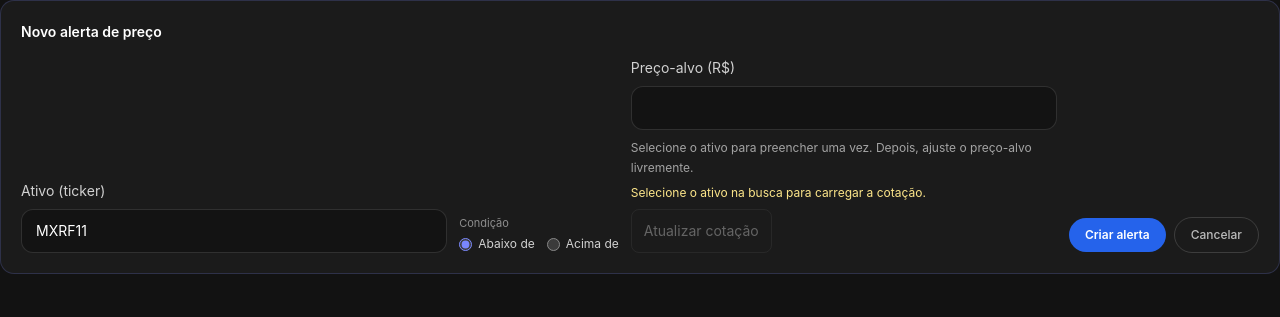
Test case: explica a falha 23503 e permite tentar novamente sem perder os campos
In the number field labelled "Preço-alvo (R$)": (844, 108) [631,86,1057,130], type "10"
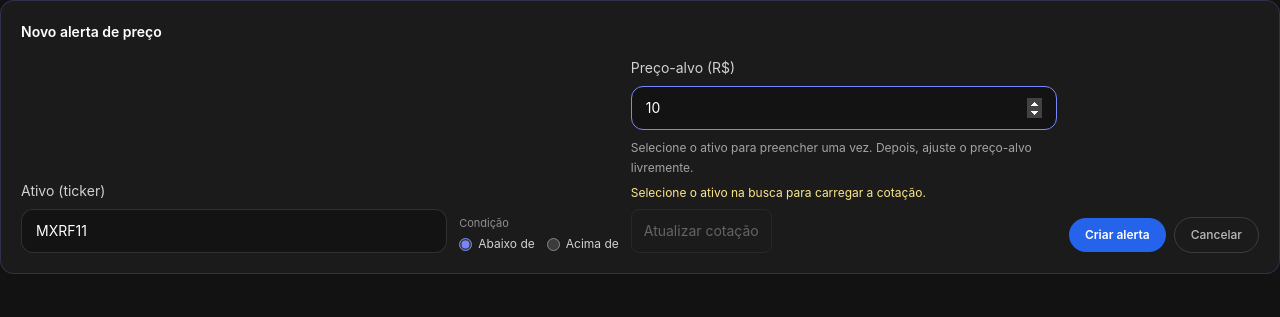
Click the button "Criar alerta": (1117, 235) [1069,218,1166,252]
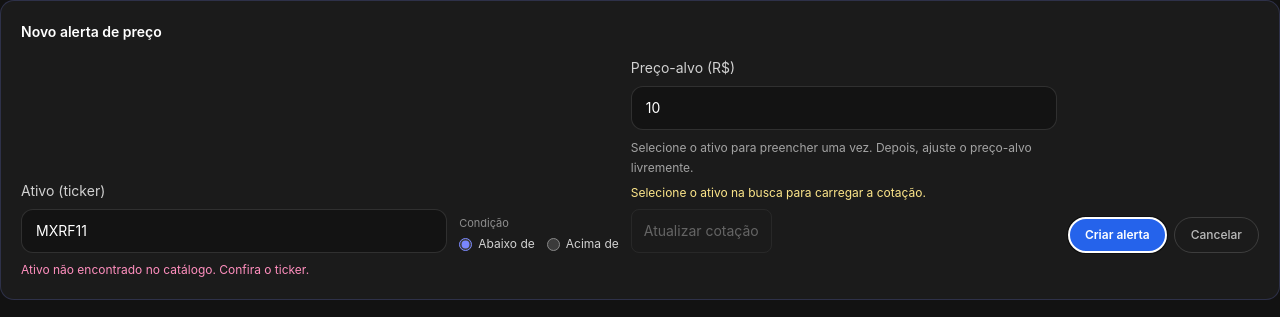
Check: the dropdown labelled "Ativo (ticker)" holds "MXRF11", box [21,209,447,253]
Check: the message "Ativo não encontrado no catálogo. Confira o ticker." is shown, box [21,262,309,277]
Click the button "Criar alerta": (1117, 235) [1069,218,1166,252]
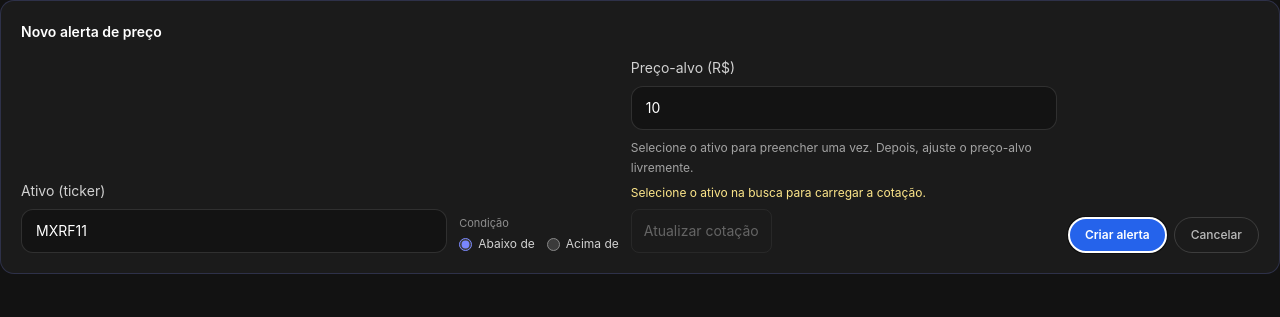
Check: the message "Ativo não encontrado no catálogo. Confira o ticker." is gone
